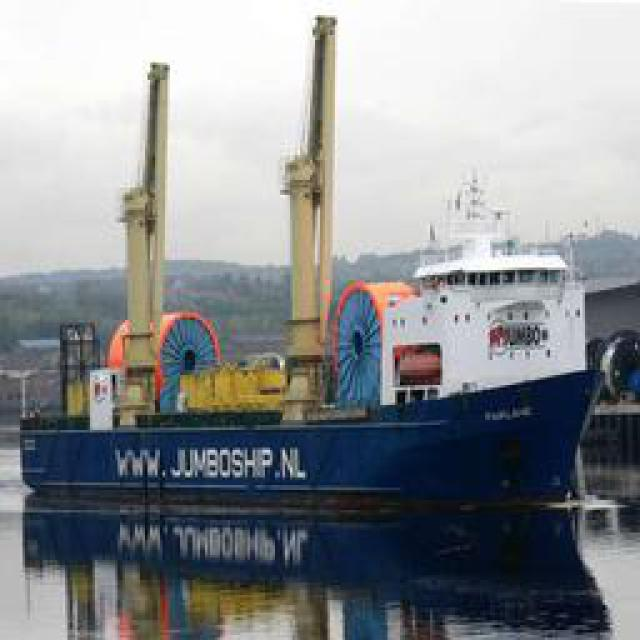Ship: (14, 11, 604, 594)
